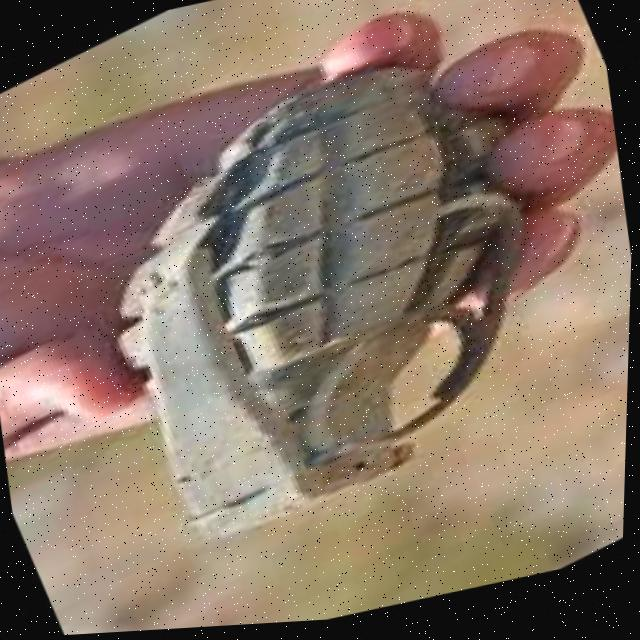grenade: (21, 0, 632, 601)
